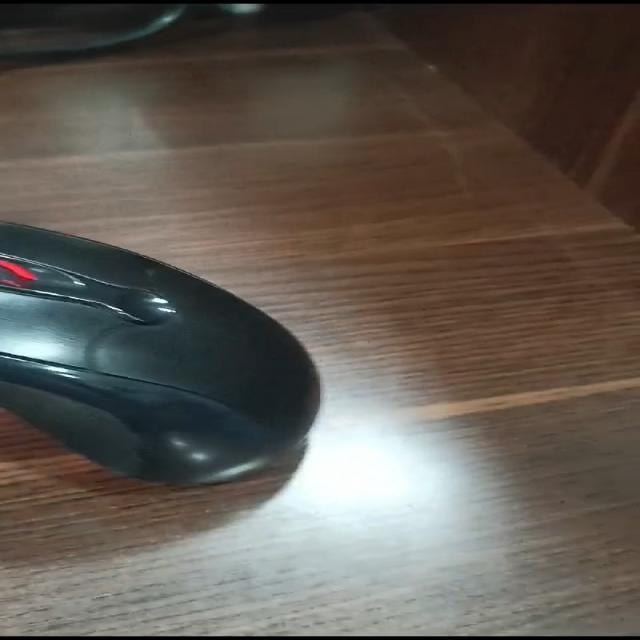Mouse: (0, 198, 398, 507)
